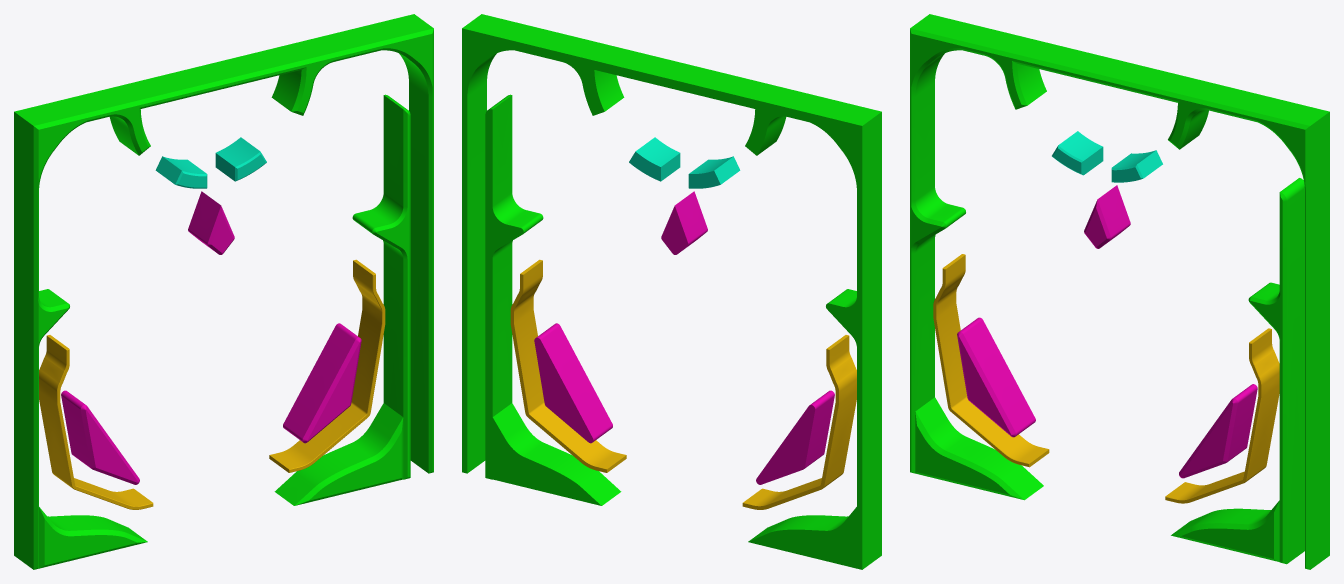
File: pin structure v1.fbx
3 views of the same model, side by side, from view 1: azimuth 30°, elevation 25°; view 2: azimuth 150°, elevation 25°; view 3: azimuth 330°, elevation 25° (orthographic).
Visible parts, largest first — view 1: Pin Structure V1; view 2: Pin Structure V1; view 3: Pin Structure V1.
Part boxes in pixels (x1,y1,x2,y2): Pin Structure V1: [14, 14, 433, 569]; Pin Structure V1: [462, 14, 881, 569]; Pin Structure V1: [910, 14, 1329, 569].
Bounding box in the file's own units: 6778 × 7184 × 636.
